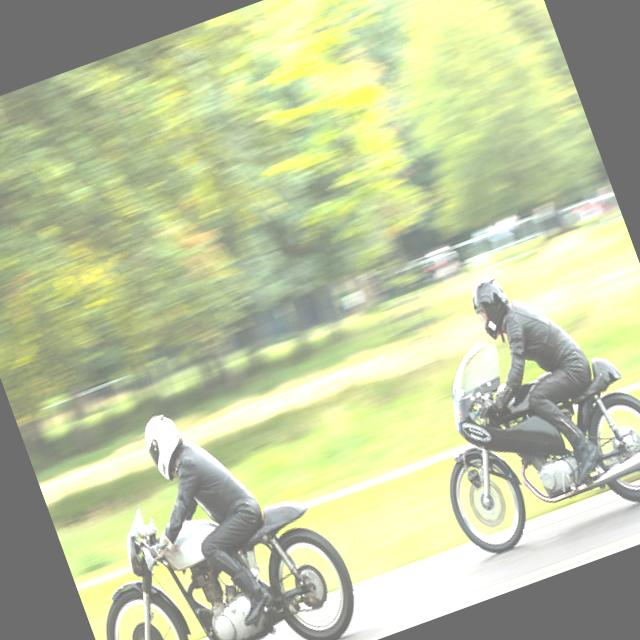Vehicle: (404, 295, 640, 566), (66, 449, 368, 640)
